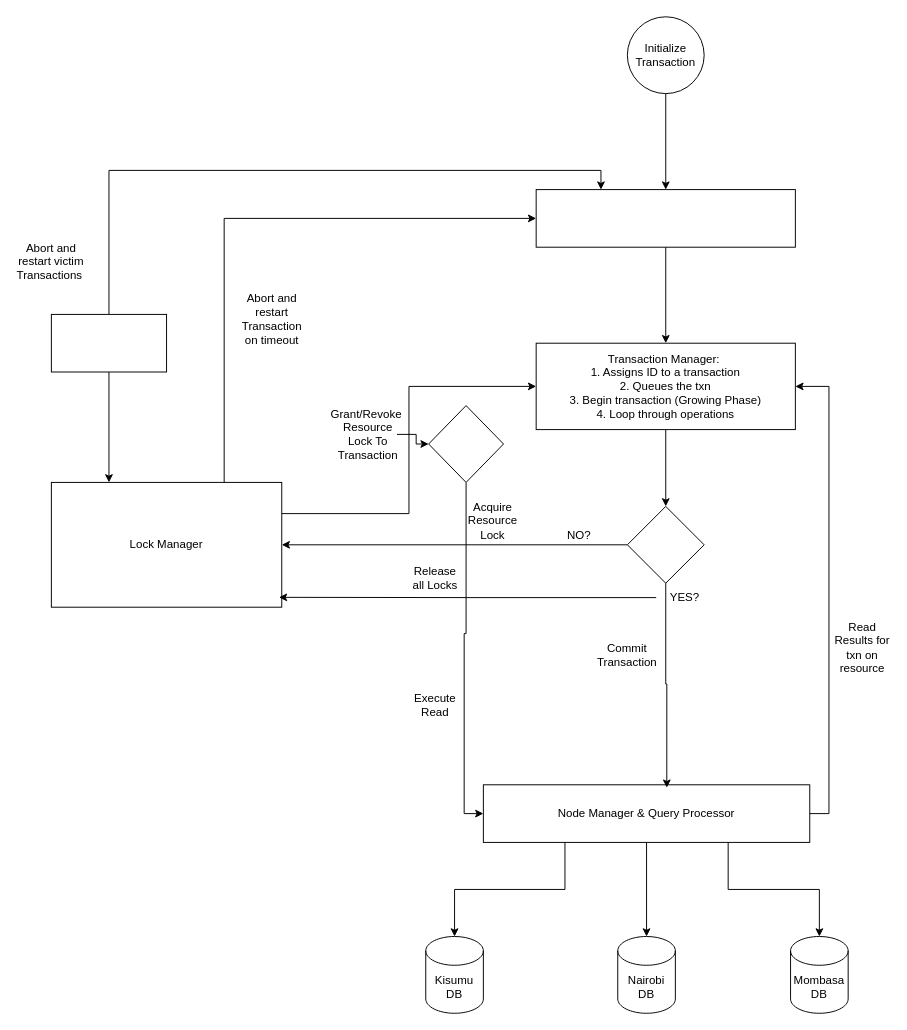
The diagram is 907 pixels wide and 1030 high, and some of its shapes have lost their labels. The centre of each missing label's shape, as x and y in pixels:
"Dead Lock Detector" belongs at point (108, 342).
"has all locks" belongs at point (665, 544).
"read?" belongs at point (466, 443).
"Transaction(type, args)" belongs at point (665, 218).
